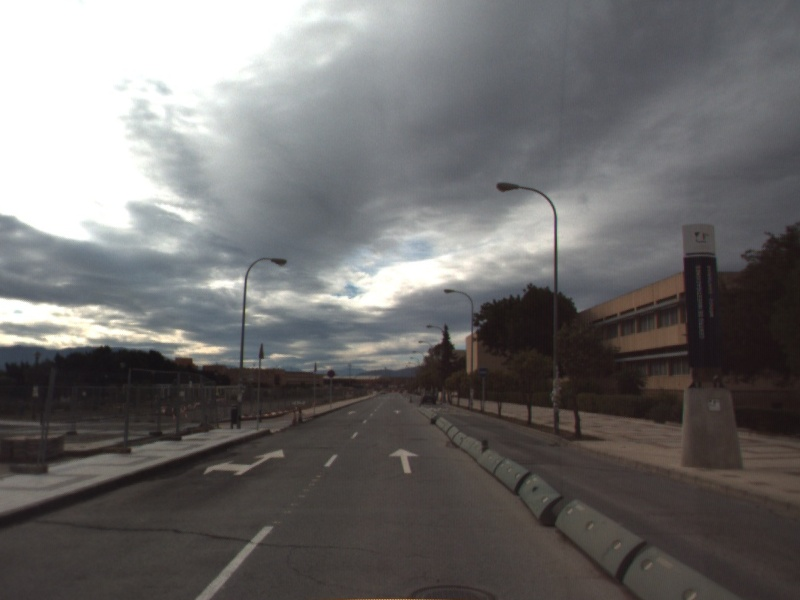STRAIGHT: (387, 445, 421, 475)
STRAIGHT_LEFT: (201, 447, 286, 477)
